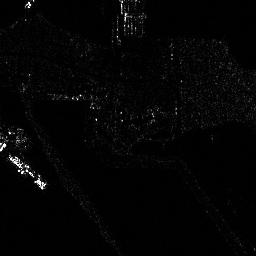ship: (8, 155, 49, 190)
